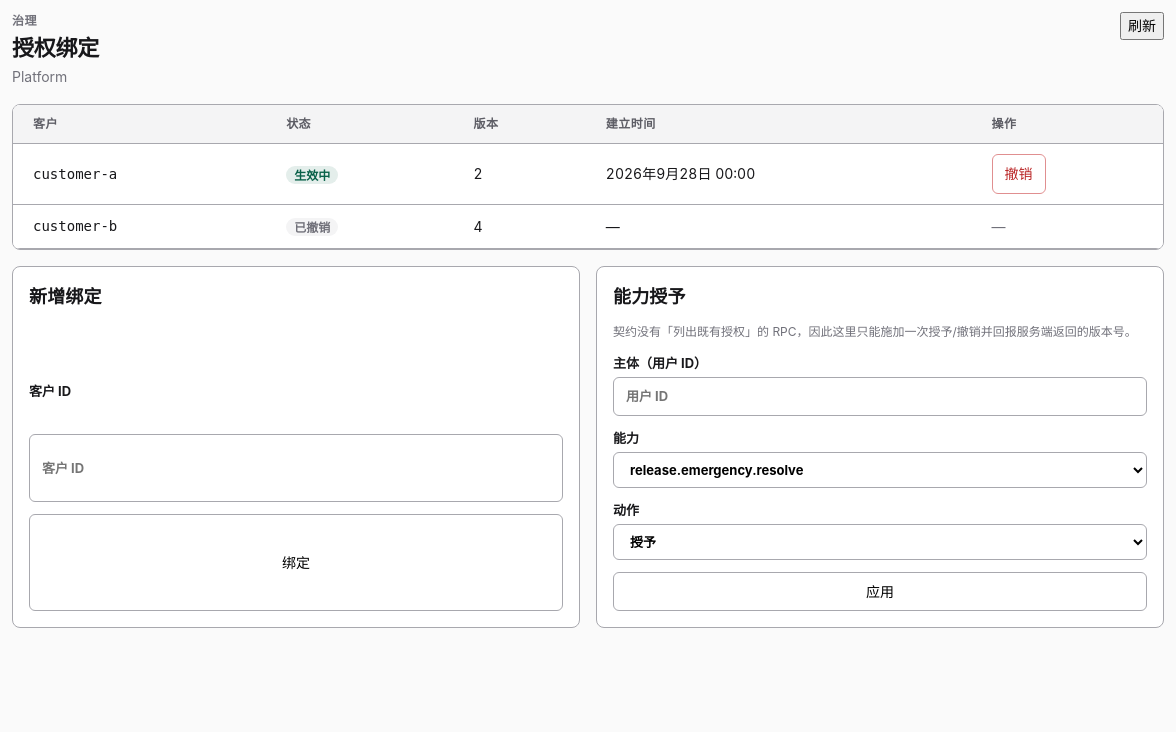
Test: BindingsPage characterization › trims the customer id, clears the input and reports the store notice
Type "  customer-c  " into the field named "customerId" at (296, 468), box top-left (29, 434), bottom-right (563, 502)
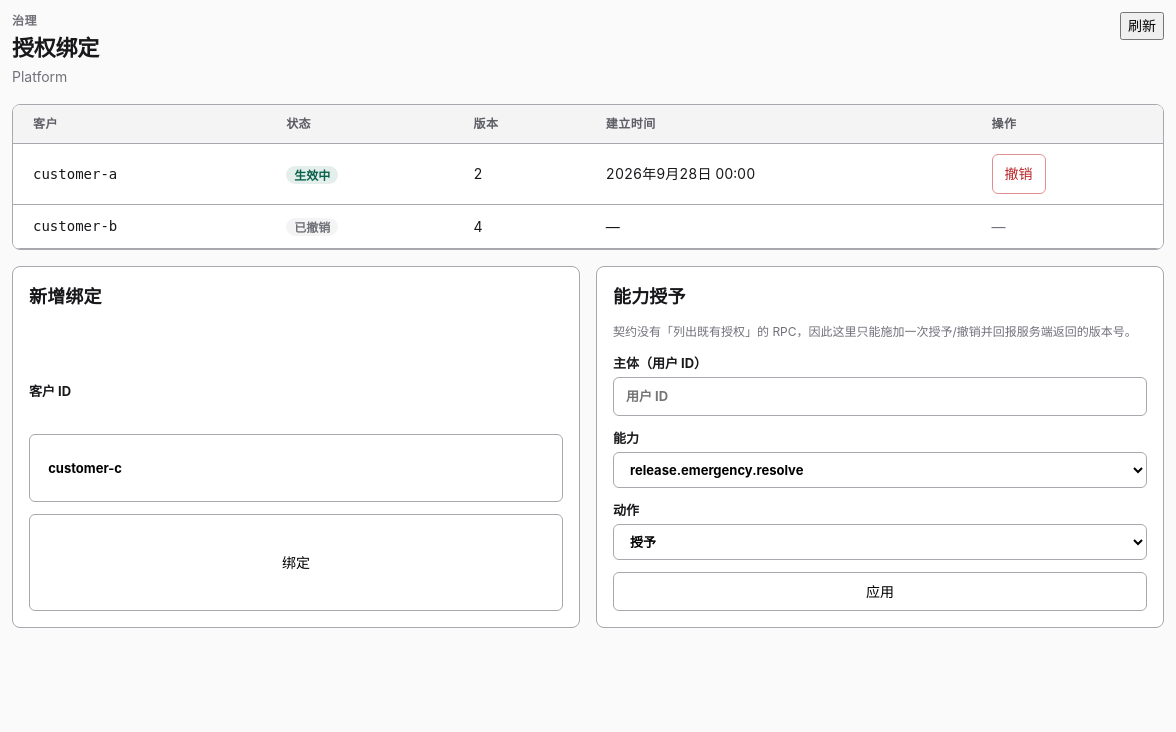
Submit the form "新增绑定 客户 ID 绑定", box top-left (12, 266), bottom-right (580, 628)
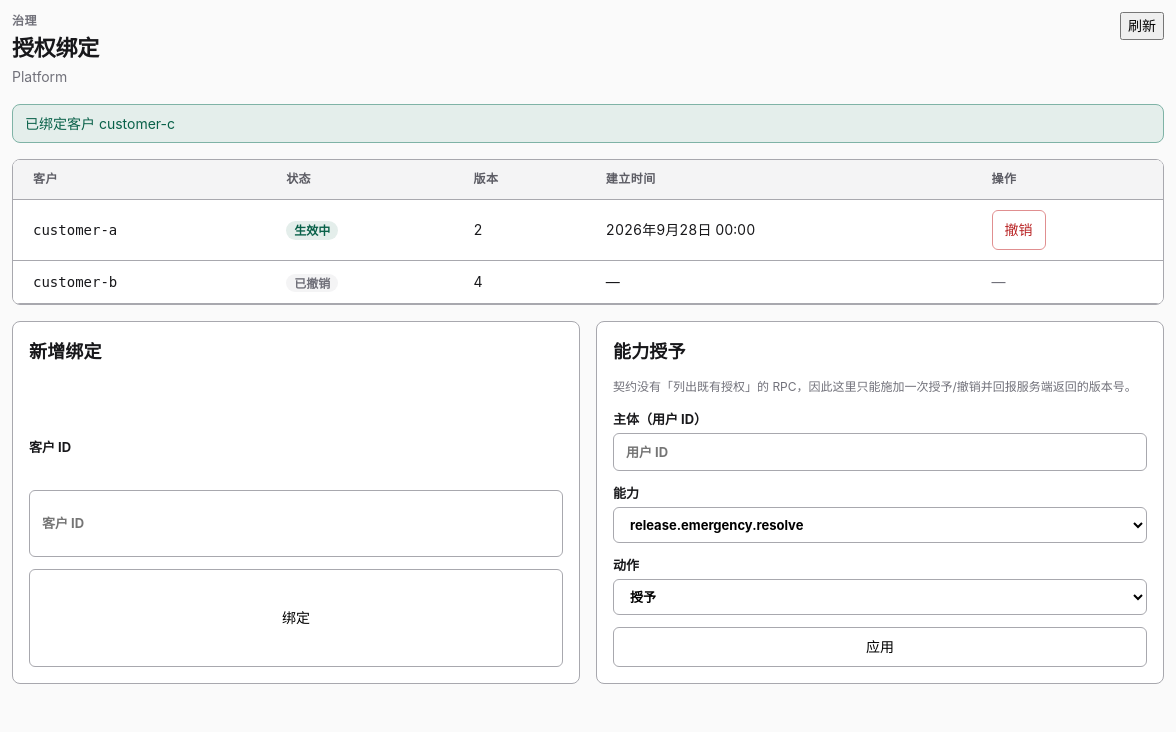
Now the field named "customerId" is empty, box top-left (29, 490), bottom-right (563, 557)
Now the message with test id "governance-notice" reads "已绑定客户 customer-c", box top-left (25, 115), bottom-right (175, 132)
